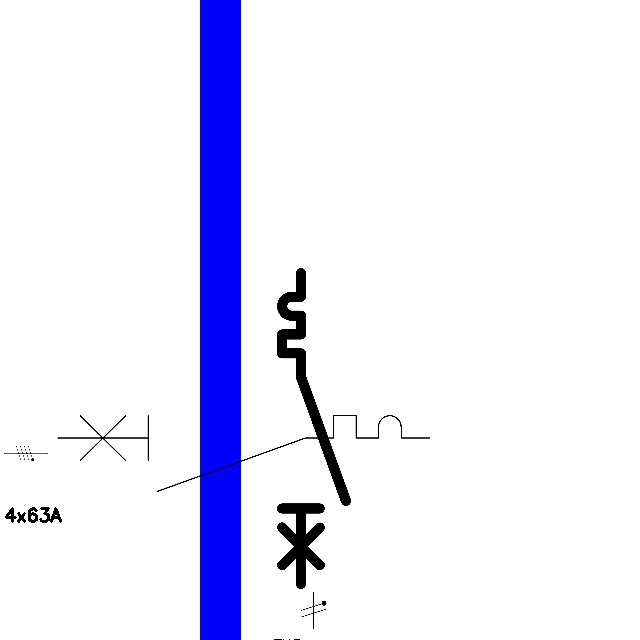interruptor_termomagnetico: (48, 406, 438, 501), (274, 265, 354, 592)
